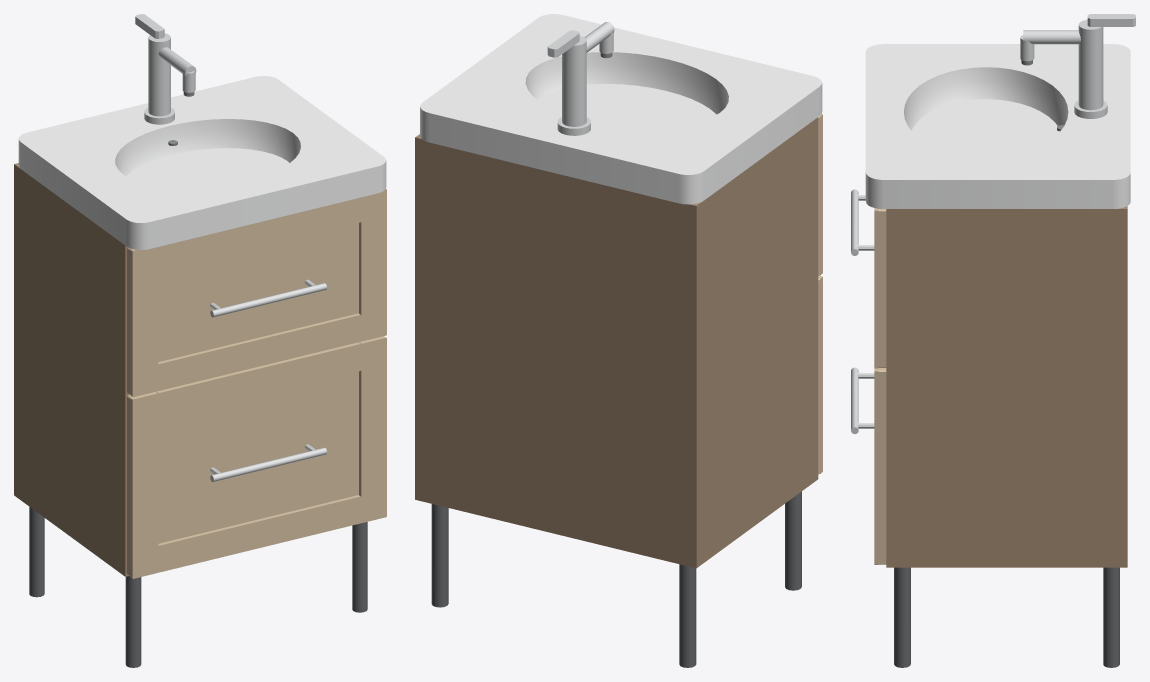
The picture shows the model from 3 angles, left to right: view 1: azimuth 30°, elevation 25°; view 2: azimuth 150°, elevation 25°; view 3: azimuth 270°, elevation 25°; orthographic projection. The views are drawn at different scales.
Visible parts, largest first — view 1: Lavabo Rộng tủ=500; Sâu tủ=400; view 2: Lavabo Rộng tủ=500; Sâu tủ=400; view 3: Lavabo Rộng tủ=500; Sâu tủ=400.
Boxes of the visible parts, x1,y1,x2,y2 form: Lavabo Rộng tủ=500; Sâu tủ=400: (14,14,386,667); Lavabo Rộng tủ=500; Sâu tủ=400: (415,14,822,667); Lavabo Rộng tủ=500; Sâu tủ=400: (851,14,1135,667).
Bounding box in the file's own units: 0.5 × 1.01 × 0.443.
